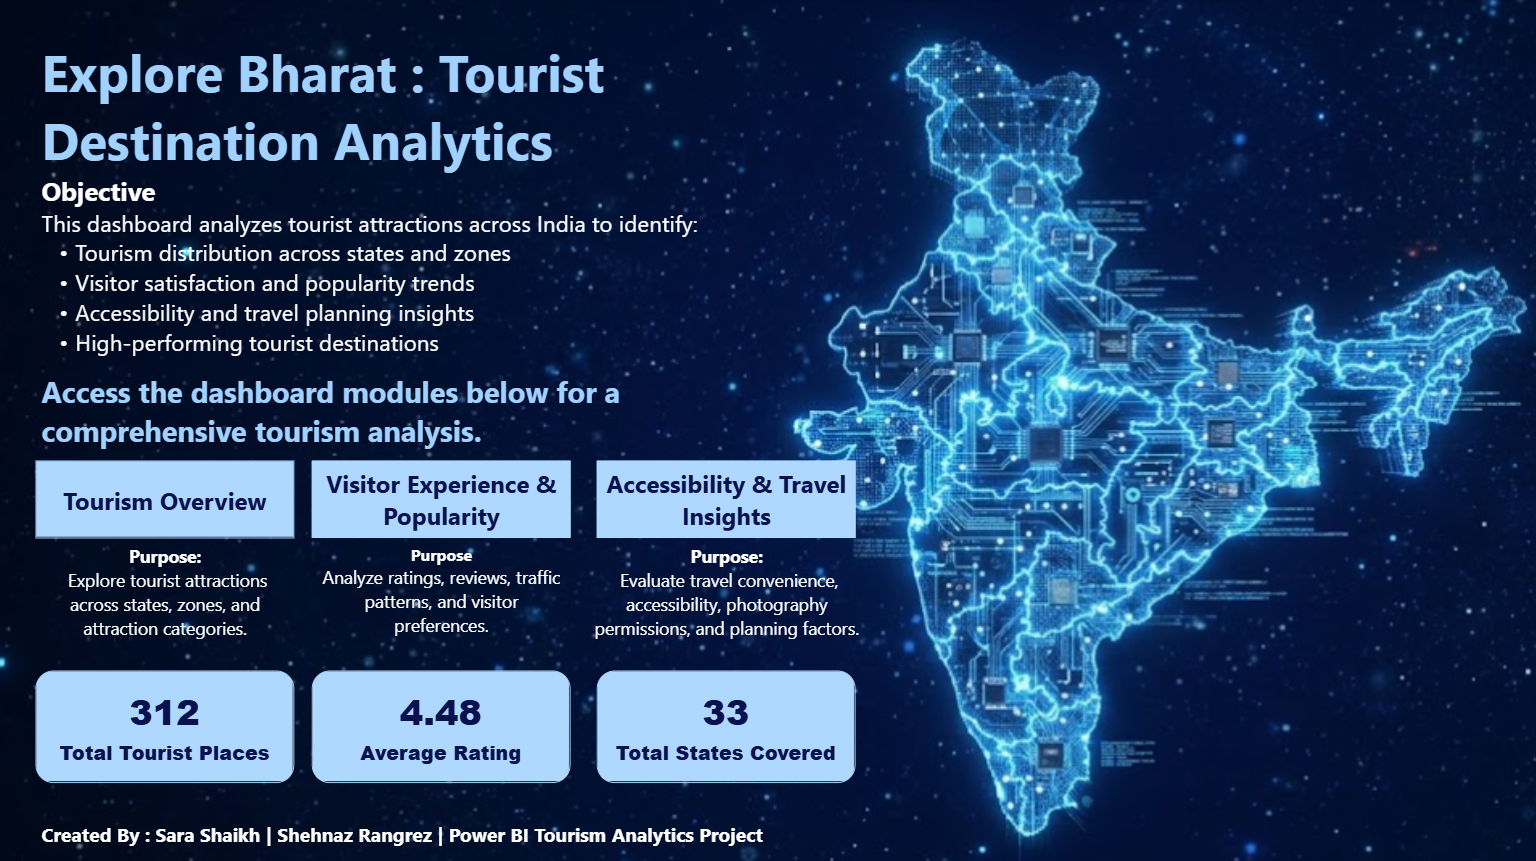

What the dashboard file says about the page in this screenshot:
{"tool":"powerbi","page":{"name":"Introduction","canvas":[1280,720],"ordinal":0},"visuals":[{"type":"textbox","box":[31.4,26.7,720.9,344.2],"z":2000},{"type":"actionButton","title":"Tourism Overview","box":[31.1,384.4,215.6,64.4],"z":3000},{"type":"actionButton","title":"Tourism Overview","box":[261.1,384.4,215.6,64.4],"z":4000},{"type":"actionButton","title":"Tourism Overview","box":[497.8,384.4,215.6,64.4],"z":5000},{"type":"textbox","box":[31.1,448.9,215.6,91.1],"z":6000},{"type":"textbox","box":[261.1,448.9,215.6,91.1],"z":7000},{"type":"textbox","box":[476.7,448.9,257.8,91.1],"z":8000},{"type":"textbox","box":[31.1,306.7,626.7,77.8],"z":9000},{"type":"cardVisual","fields":{"Data":["Cleaned Dataset.Total Tourist Places"]},"box":[31.1,558.9,215.6,93.3],"z":10000},{"type":"cardVisual","fields":{"Data":["Cleaned Dataset.Average Rating"]},"box":[261.1,558.9,215.6,93.3],"z":11000},{"type":"cardVisual","fields":{"Data":["Cleaned Dataset.Total States Covered"]},"box":[497.8,558.9,215.6,93.3],"z":12000},{"type":"textbox","box":[31.1,680,762.2,40],"z":13000}]}

Visuals, with their boxes in screenshot pixels (x1, y1, x2, y2), scaled from the page's 1280x720 canvas onto the 1536x861 screenshot:
textbox: {"left": 38, "top": 32, "right": 903, "bottom": 444}
"Tourism Overview" actionButton: {"left": 37, "top": 460, "right": 296, "bottom": 537}
"Tourism Overview" actionButton: {"left": 313, "top": 460, "right": 572, "bottom": 537}
"Tourism Overview" actionButton: {"left": 597, "top": 460, "right": 856, "bottom": 537}
textbox: {"left": 37, "top": 537, "right": 296, "bottom": 646}
textbox: {"left": 313, "top": 537, "right": 572, "bottom": 646}
textbox: {"left": 572, "top": 537, "right": 881, "bottom": 646}
textbox: {"left": 37, "top": 367, "right": 789, "bottom": 460}
cardVisual - Cleaned Dataset.Total Tourist Places: {"left": 37, "top": 668, "right": 296, "bottom": 780}
cardVisual - Cleaned Dataset.Average Rating: {"left": 313, "top": 668, "right": 572, "bottom": 780}
cardVisual - Cleaned Dataset.Total States Covered: {"left": 597, "top": 668, "right": 856, "bottom": 780}
textbox: {"left": 37, "top": 813, "right": 952, "bottom": 860}
